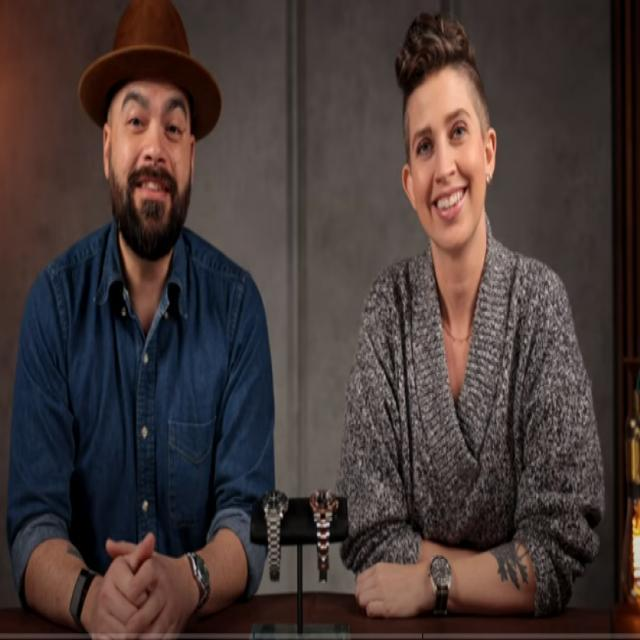Watch: (260, 486, 288, 580), (310, 484, 336, 580), (66, 562, 95, 629), (428, 544, 454, 618), (186, 542, 212, 616)
